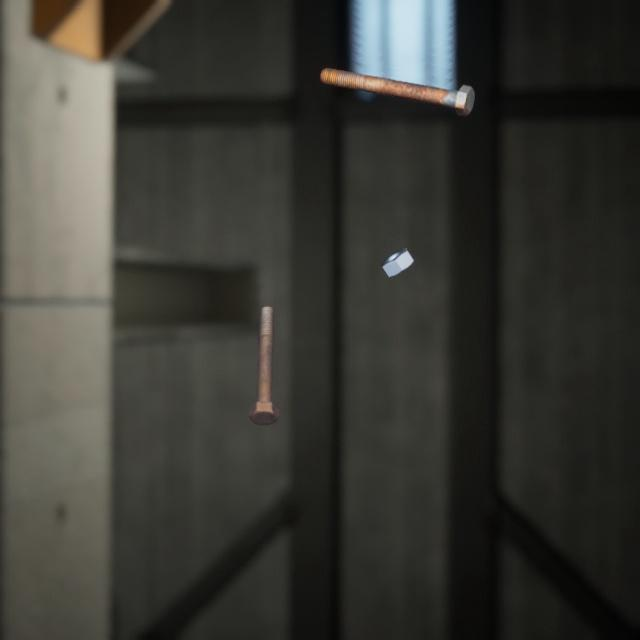bolt: (315, 53, 479, 110), (244, 282, 283, 410)
nut: (377, 228, 418, 266)
